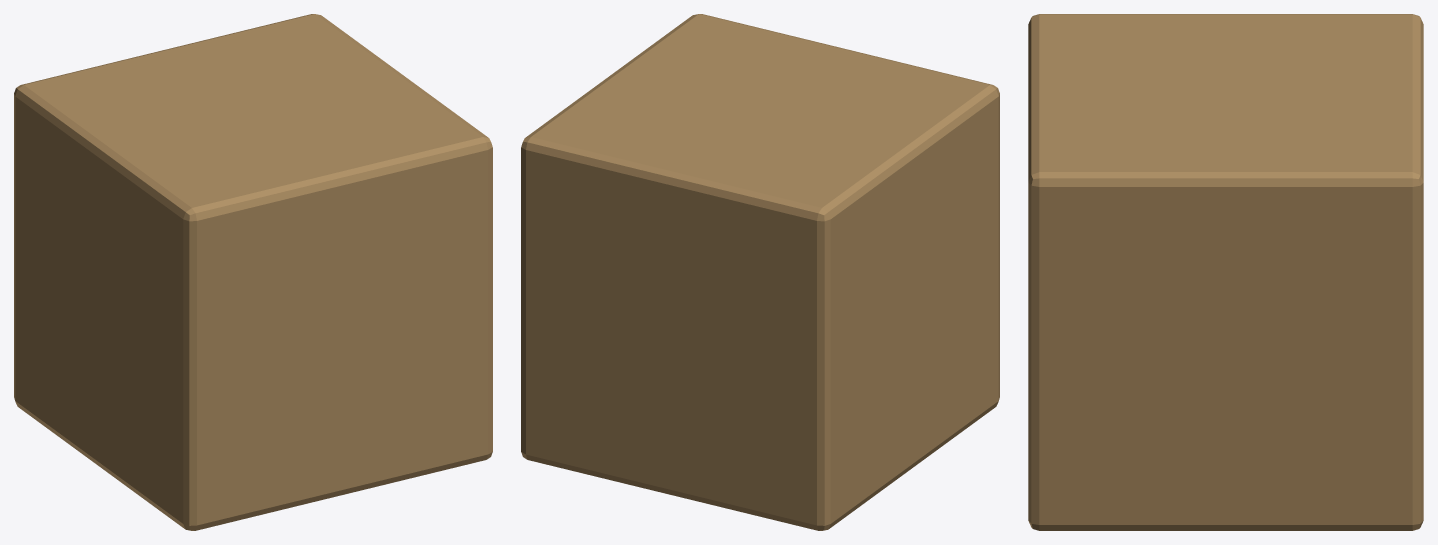
File: crate.glb
3 renders of one model, left to right at view 1: azimuth 30°, elevation 25°; view 2: azimuth 150°, elevation 25°; view 3: azimuth 270°, elevation 25°, orthographic. The views are drawn at different scales.
Parts seen in each view (by area): view 1: intact_mesh, shard_000, shard_002, shard_007, shard_003, shard_004, shard_006, shard_005; view 2: intact_mesh, shard_000, shard_002, shard_004, shard_001, shard_007, shard_003, shard_006; view 3: intact_mesh, shard_000, shard_005, shard_001, shard_002, shard_003, shard_006, shard_008.
Boxes of the visible parts, x1,y1,x2,y2 form: intact_mesh: (14,14,492,530); shard_000: (14,14,441,227); shard_002: (140,105,492,305); shard_007: (128,265,358,530); shard_003: (83,231,129,485); shard_004: (14,178,82,447); shard_006: (14,148,139,271); shard_005: (358,235,492,491); intact_mesh: (521,14,999,530); shard_000: (521,45,951,261); shard_002: (655,14,999,177); shard_004: (673,255,898,528); shard_001: (521,232,673,489); shard_007: (944,178,999,441); shard_003: (899,222,944,469); shard_006: (521,189,861,305); intact_mesh: (1028,14,1423,530); shard_000: (1135,14,1423,232); shard_005: (1028,277,1159,530); shard_001: (1297,277,1423,530); shard_002: (1028,14,1135,281); shard_003: (1160,281,1261,530); shard_006: (1135,228,1423,281); shard_008: (1262,281,1297,530).
Size of the model in its own units: 0.7 by 0.7 by 0.7.
